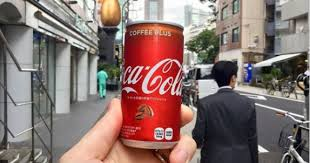coke: (122, 23, 179, 147)
